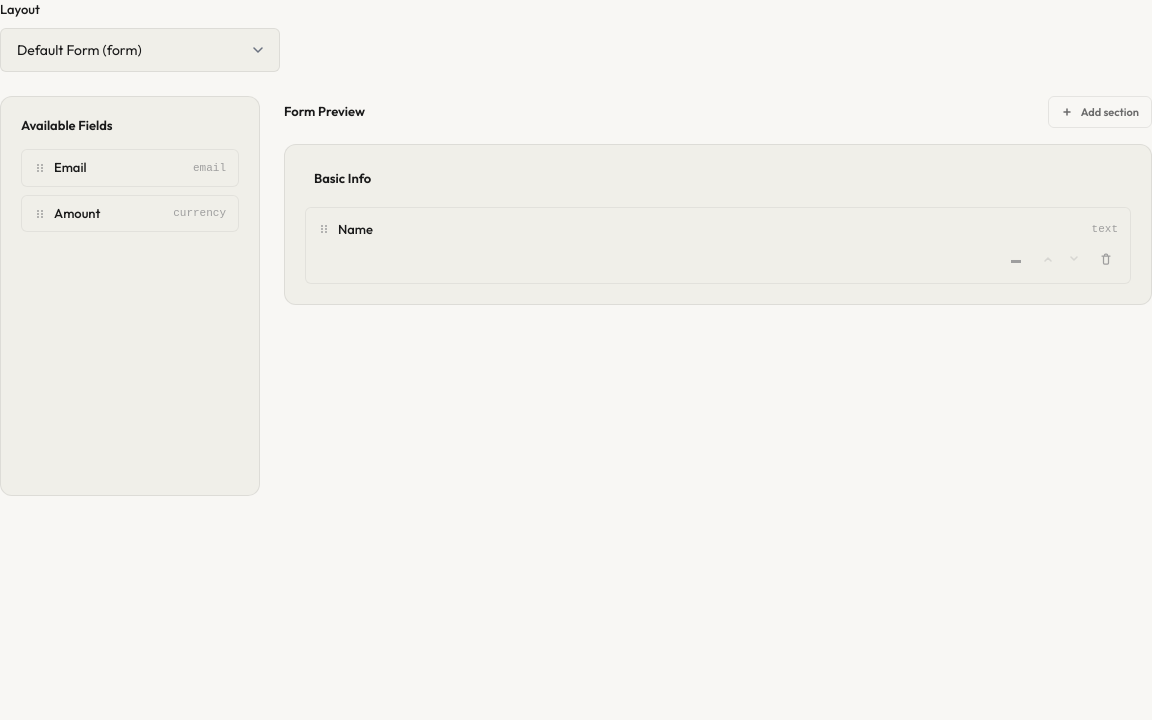
Test: LayoutBuilderTab › validates name is required in create modal
Select "+ Create new layout" in the dropdown labelled "Layout": (140,50) [0, 28, 280, 72]
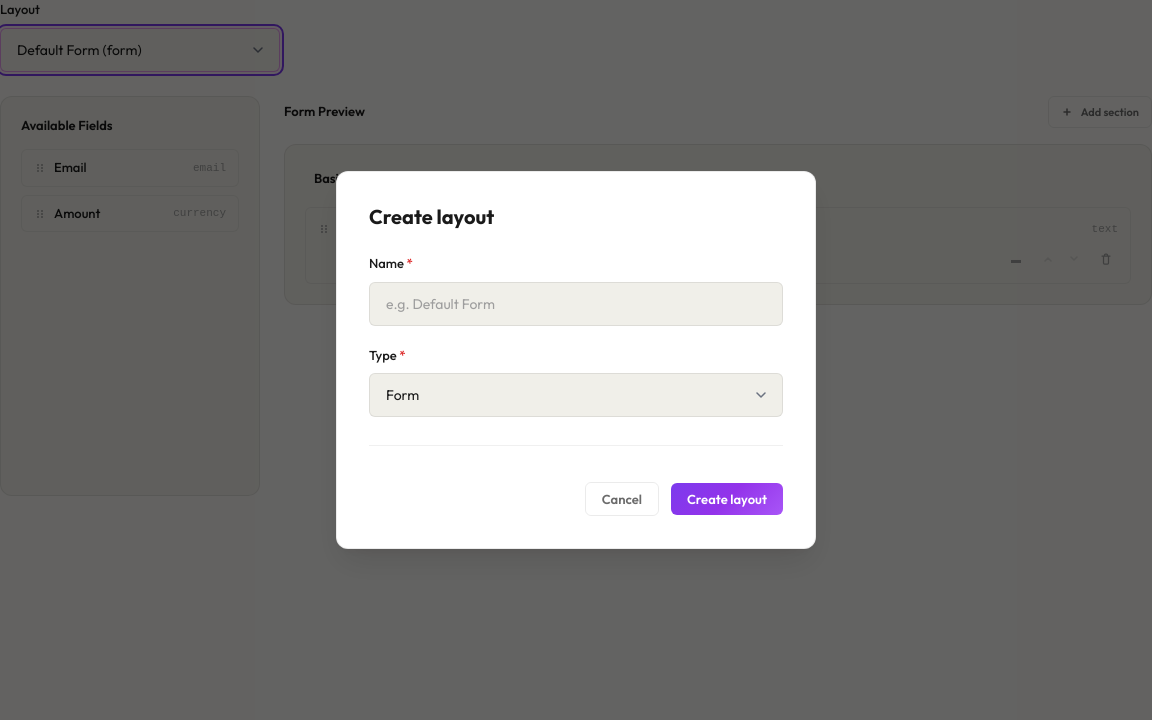
Now the dialog "Create layout" is shown
// Click create without filling name
Click the button "Create layout": (727,499) [671, 483, 783, 515]
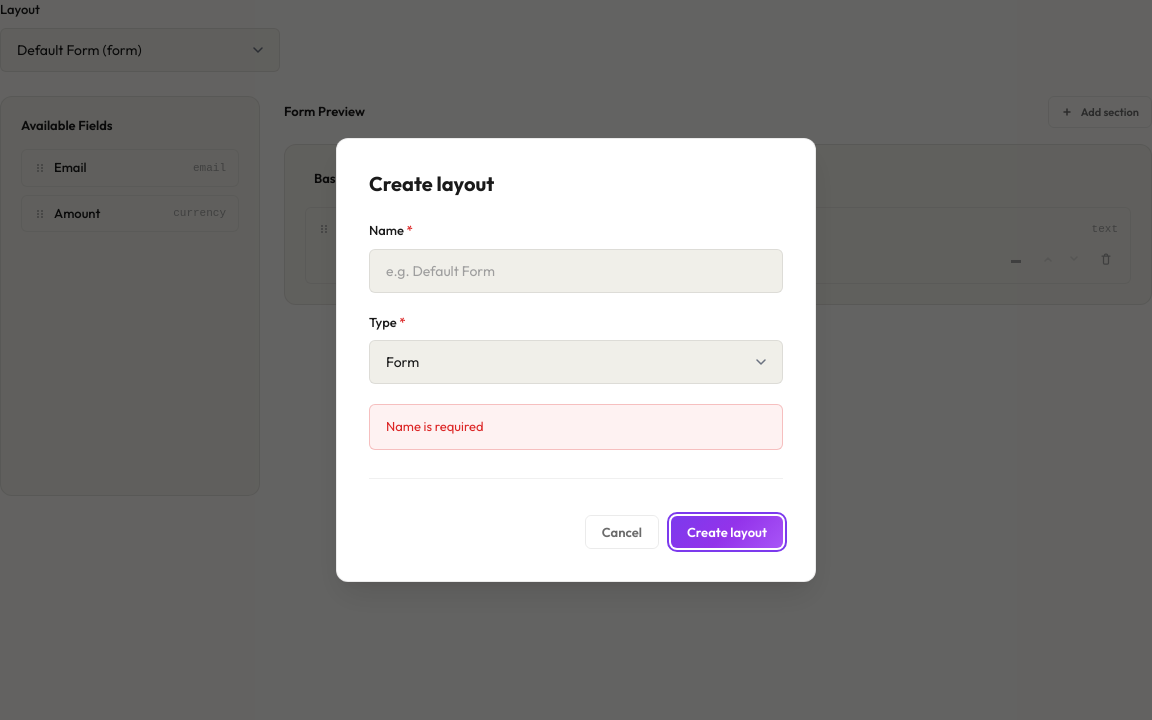
Now the text "Name is required" is shown, box [369, 404, 783, 450]
